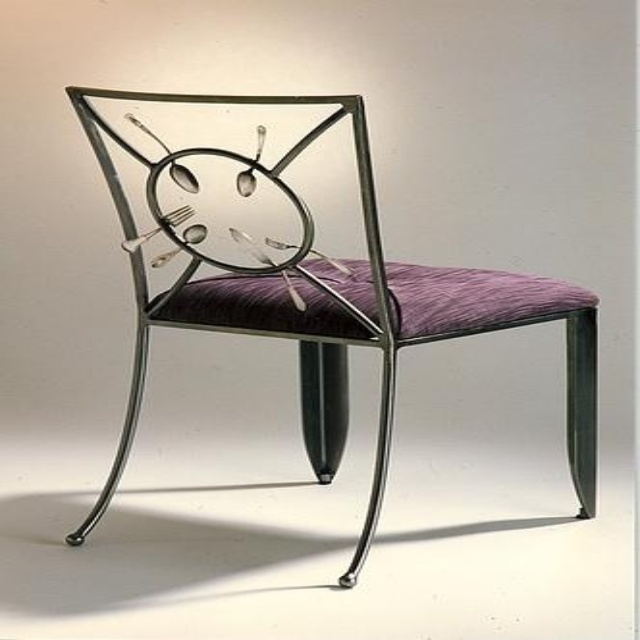obstacle: (66, 87, 596, 586)
